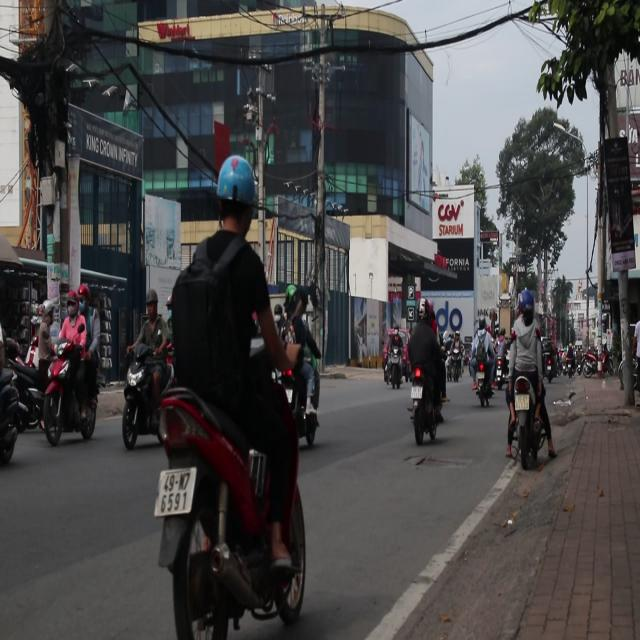bus: (1, 230, 49, 368)
motorbike: (159, 364, 310, 640), (40, 341, 99, 446), (120, 342, 176, 449), (0, 343, 40, 459), (510, 375, 543, 478), (280, 361, 326, 429), (410, 371, 442, 447), (474, 358, 490, 404), (562, 349, 582, 378)
